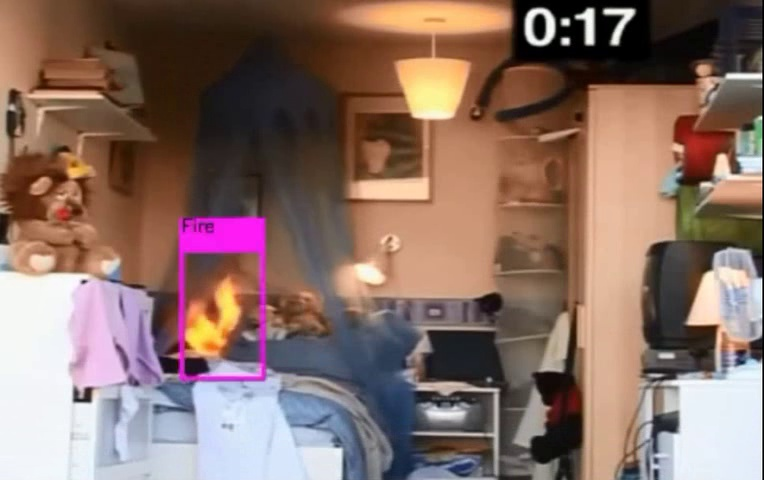fire: (181, 270, 242, 366)
